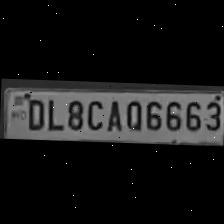3: (202, 96, 220, 132)
6: (162, 96, 182, 132), (142, 97, 162, 132), (182, 97, 202, 132)
8: (64, 96, 84, 131)
A: (104, 96, 122, 132)
C: (84, 96, 104, 132)
D: (23, 95, 45, 131)
L: (43, 94, 62, 132)
Q: (123, 96, 143, 132)
